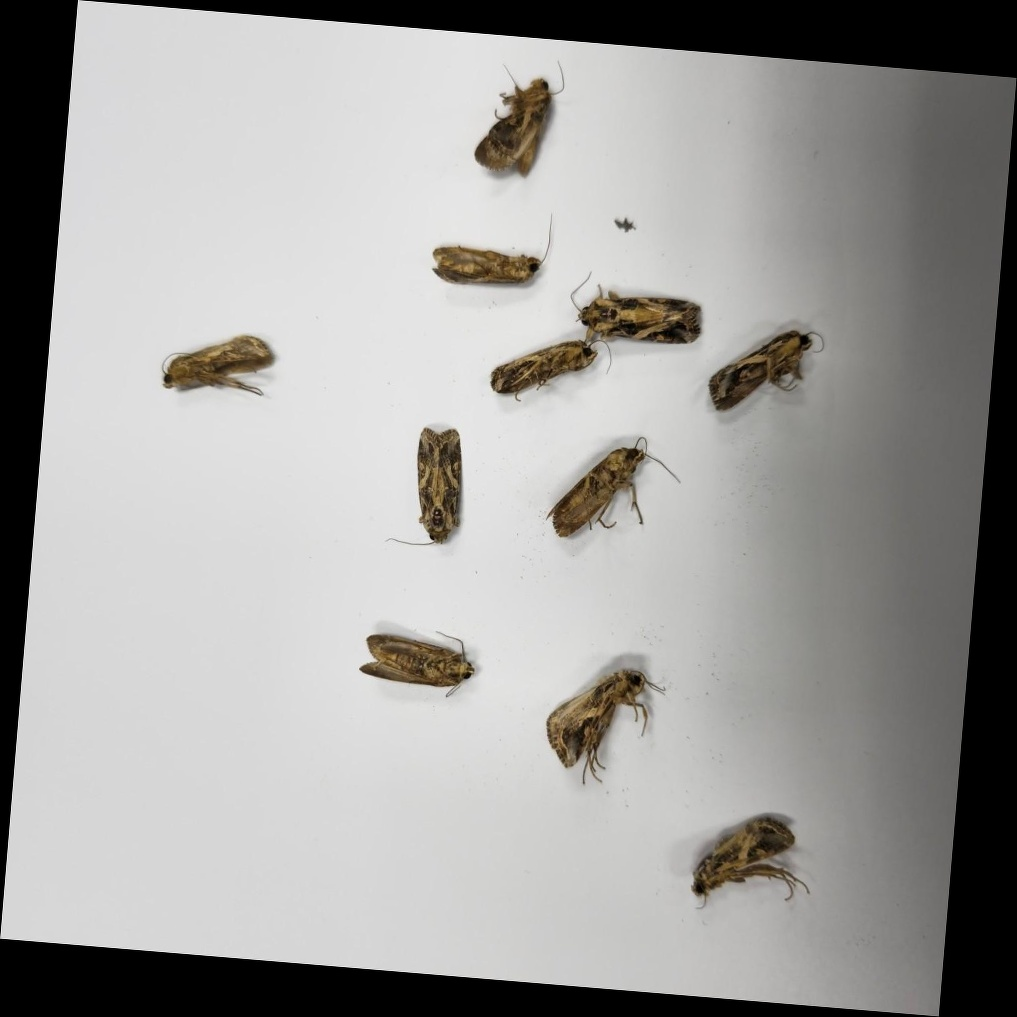Spodoptera litura: (545, 666, 663, 786), (549, 434, 680, 542), (693, 816, 814, 914), (476, 57, 562, 178), (708, 327, 822, 415), (570, 274, 704, 347), (434, 207, 550, 288), (389, 425, 464, 547), (491, 335, 611, 404), (360, 628, 476, 695), (161, 332, 274, 394)
